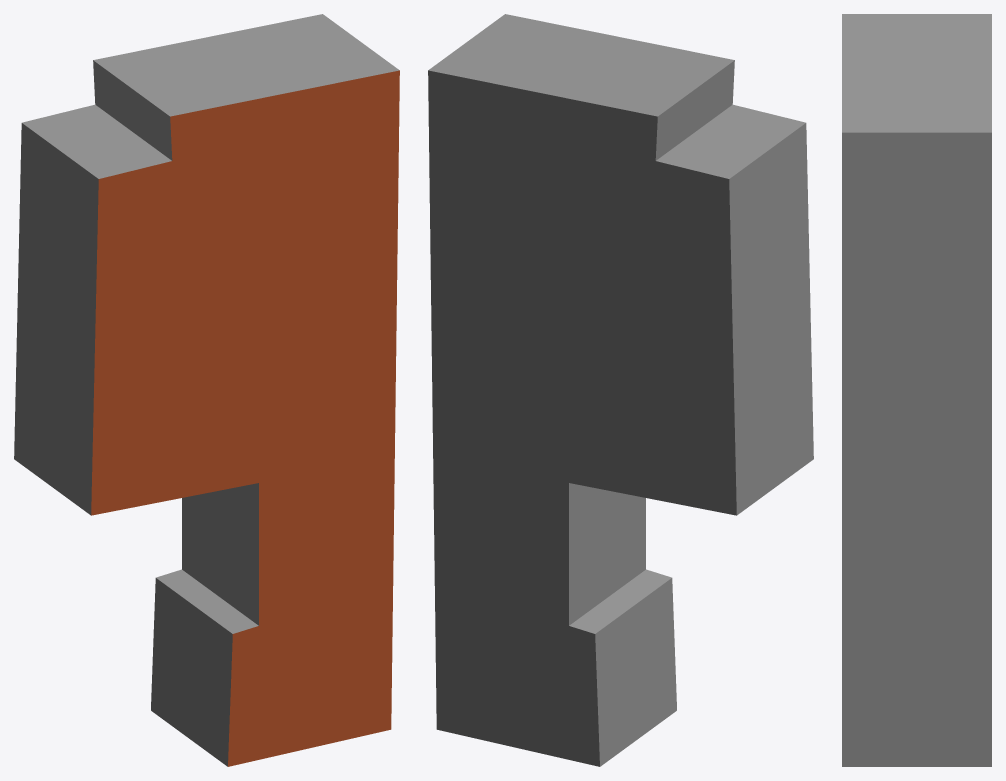
Rendered from construction_4933_assumed_A_Casa_h6m.obj.
3 views of the same model, side by side, from view 1: azimuth 30°, elevation 25°; view 2: azimuth 150°, elevation 25°; view 3: azimuth 270°, elevation 25° (orthographic). The views are drawn at different scales.
Parts seen in each view (by area): view 1: construction_4933_assumed_A_Casa; view 2: construction_4933_assumed_A_Casa; view 3: construction_4933_assumed_A_Casa.
Boxes of the visible parts, x1,y1,x2,y2 form: construction_4933_assumed_A_Casa: (14, 14, 399, 766); construction_4933_assumed_A_Casa: (428, 14, 813, 766); construction_4933_assumed_A_Casa: (842, 14, 991, 766).
Size of the model in its own units: 13.87 by 28.64 by 6.
